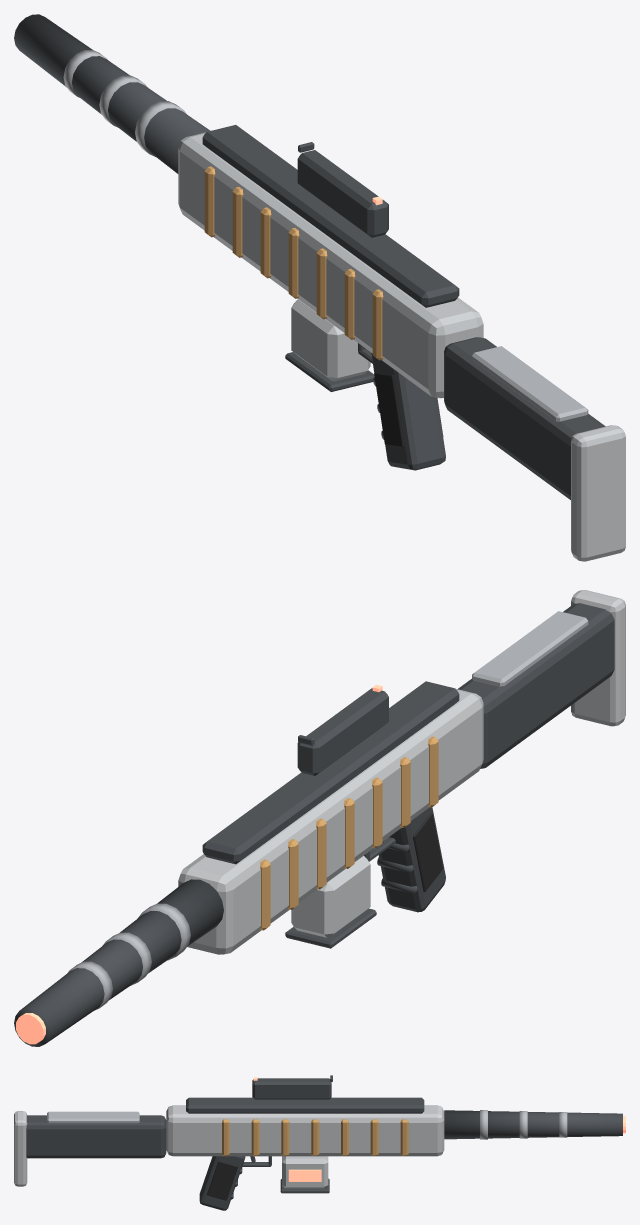
The model's file is laser_rifle.glb.
3 views of the same model, one above another, from view 1: azimuth 30°, elevation 25°; view 2: azimuth 150°, elevation 25°; view 3: azimuth 270°, elevation 25° (orthographic). The views are drawn at different scales.
Parts seen in each view (by area): view 1: Laser_rifle; view 2: Laser_rifle; view 3: Laser_rifle.
Boxes of the visible parts, <box> form: Laser_rifle: <box>14,14,625,561</box>; Laser_rifle: <box>14,590,625,1046</box>; Laser_rifle: <box>14,1075,625,1210</box>.
Size of the model in its own units: 0.058 by 0.2176 by 0.9245.
